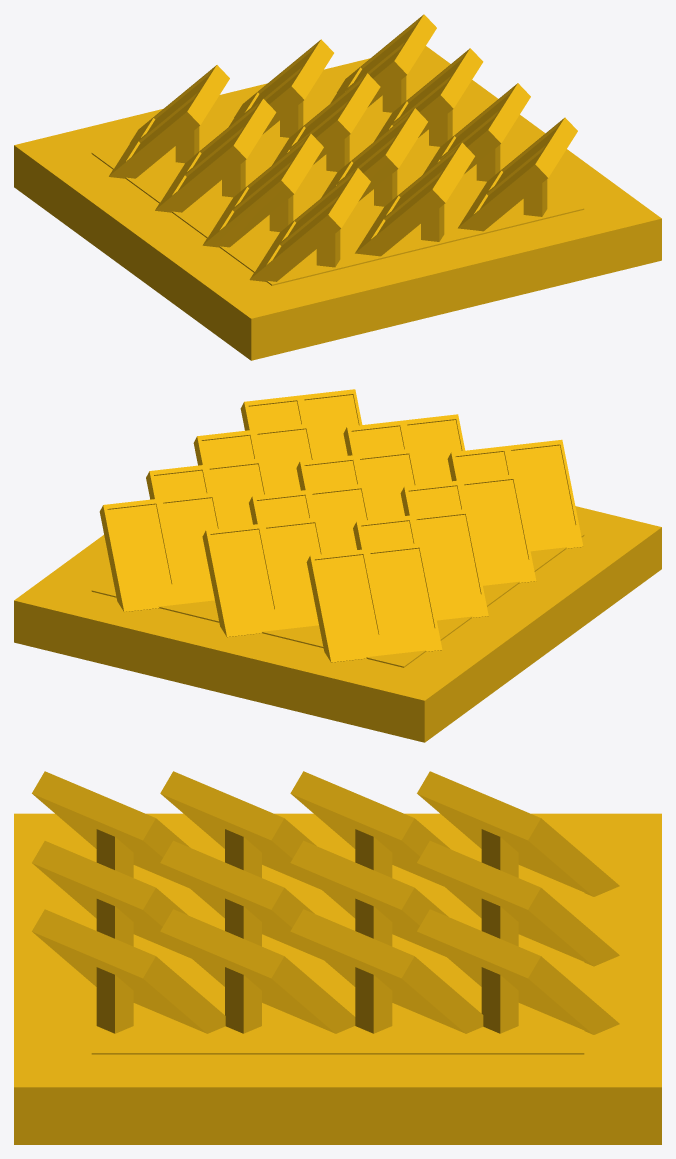
The model's file is BROWN.gltf.
3 views of the same model, one above another, from view 1: azimuth 30°, elevation 25°; view 2: azimuth 150°, elevation 25°; view 3: azimuth 270°, elevation 25° (orthographic). The views are drawn at different scales.
Visible parts, largest first — view 1: Part 1; view 2: Part 1; view 3: Part 1.
Part boxes in pixels (left/top/right/bottom): Part 1: left=14, top=14, right=661, bottom=360; Part 1: left=14, top=389, right=661, bottom=742; Part 1: left=14, top=771, right=661, bottom=1144.
Size of the model in its own units: 0.0296 by 0.008 by 0.0296.
